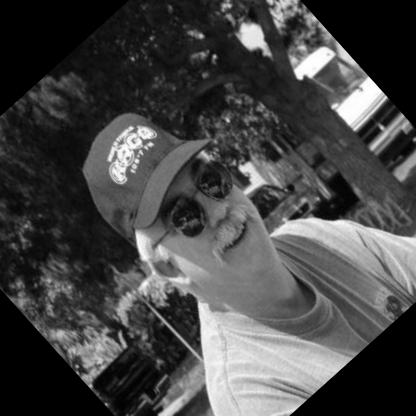bus: (216, 29, 416, 245)
